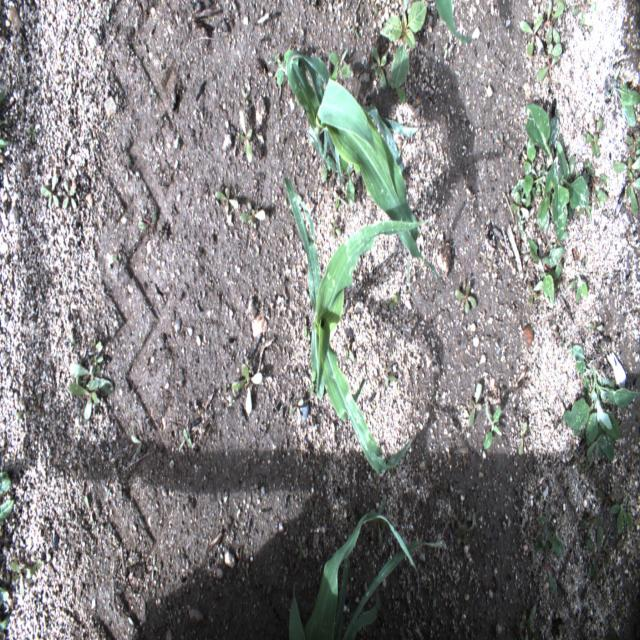crop: (283, 177, 428, 474), (285, 48, 443, 301), (289, 512, 444, 640), (434, 0, 471, 42)
weed: (562, 345, 639, 459), (525, 104, 588, 240), (379, 0, 426, 87), (510, 176, 568, 231), (527, 238, 563, 309), (606, 66, 640, 128), (232, 362, 263, 414), (69, 362, 114, 395), (585, 526, 611, 582), (68, 376, 98, 420), (366, 498, 392, 548), (9, 558, 41, 597), (536, 42, 562, 90), (534, 515, 564, 556), (519, 13, 544, 58), (584, 159, 610, 201), (540, 1, 564, 46), (268, 48, 292, 88), (609, 497, 633, 536), (483, 406, 502, 451), (0, 92, 14, 153), (0, 471, 15, 525), (523, 136, 536, 196), (569, 2, 596, 30), (585, 117, 603, 159), (339, 156, 355, 203), (575, 171, 591, 218), (370, 46, 387, 90), (238, 109, 252, 162), (612, 156, 639, 183), (566, 270, 587, 304), (453, 512, 476, 543), (40, 172, 59, 208), (516, 606, 536, 640), (328, 49, 351, 78), (215, 186, 239, 212), (454, 286, 476, 314), (468, 383, 482, 427), (538, 562, 556, 595), (510, 192, 529, 220), (626, 177, 640, 214), (0, 587, 11, 631), (586, 433, 604, 458), (596, 489, 615, 512), (388, 78, 406, 102), (75, 374, 100, 391), (240, 207, 265, 224), (62, 182, 77, 210), (515, 422, 528, 454), (528, 280, 543, 307), (138, 208, 157, 229), (178, 428, 192, 453), (84, 496, 95, 527), (333, 190, 349, 210), (122, 157, 134, 183), (346, 510, 356, 541), (580, 517, 602, 531), (147, 554, 158, 581), (565, 156, 575, 184), (551, 263, 562, 288), (130, 434, 142, 456), (329, 219, 341, 241), (290, 399, 304, 417), (91, 354, 103, 374), (383, 373, 398, 389), (588, 319, 603, 335), (322, 158, 331, 184), (343, 343, 355, 362), (15, 406, 30, 421), (626, 135, 640, 151), (26, 124, 37, 144), (487, 253, 498, 273), (541, 267, 559, 279), (88, 337, 102, 352), (514, 214, 524, 235), (386, 294, 398, 311), (296, 539, 306, 559), (448, 510, 458, 530), (590, 194, 604, 208), (309, 368, 316, 396), (112, 243, 122, 262), (128, 616, 138, 635), (303, 316, 310, 342), (310, 500, 318, 522), (532, 0, 542, 17), (236, 546, 243, 570), (554, 0, 568, 12), (348, 27, 359, 42), (264, 586, 272, 606), (573, 452, 581, 472), (553, 332, 565, 345), (351, 13, 358, 35), (608, 628, 620, 640), (530, 185, 541, 198), (37, 390, 42, 418), (610, 481, 621, 493), (631, 148, 640, 160), (228, 0, 237, 11), (242, 88, 248, 104), (373, 0, 378, 17), (357, 68, 364, 80), (584, 254, 588, 265)
